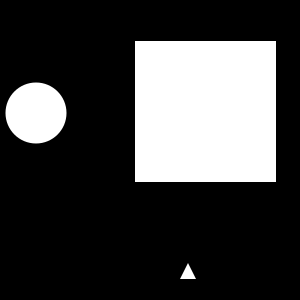circle: (135, 41, 276, 182)
rectangle: (5, 82, 66, 144)
triangle: (180, 263, 196, 279)
